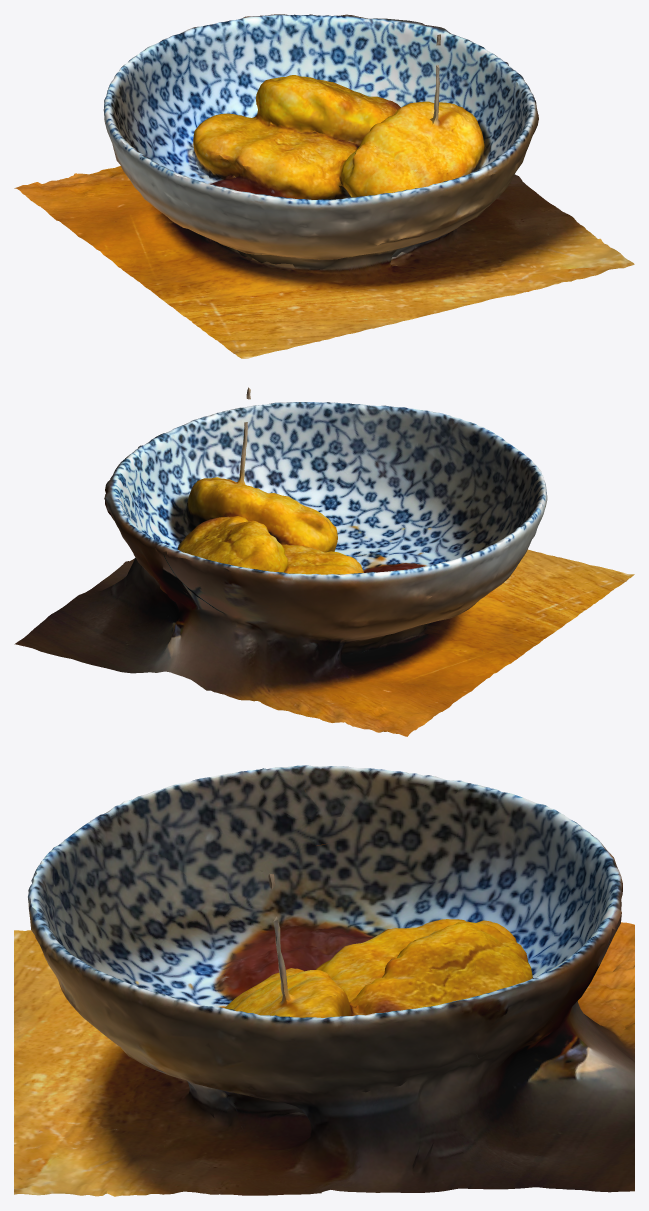
File: chicken_nugget.glb
3 renders of one model, top to bottom at view 1: azimuth 30°, elevation 25°; view 2: azimuth 150°, elevation 25°; view 3: azimuth 270°, elevation 25°, orthographic. The views are drawn at different scales.
Visible parts, largest first — view 1: Object_2; view 2: Object_2; view 3: Object_2.
Boxes of the visible parts, left/top/right/bottom form: Object_2: left=14, top=14, right=634, bottom=358; Object_2: left=14, top=387, right=634, bottom=736; Object_2: left=14, top=765, right=634, bottom=1196.
Size of the model in its own units: 0.8335 by 0.3819 by 0.8352.
1 material, 1 textured.
